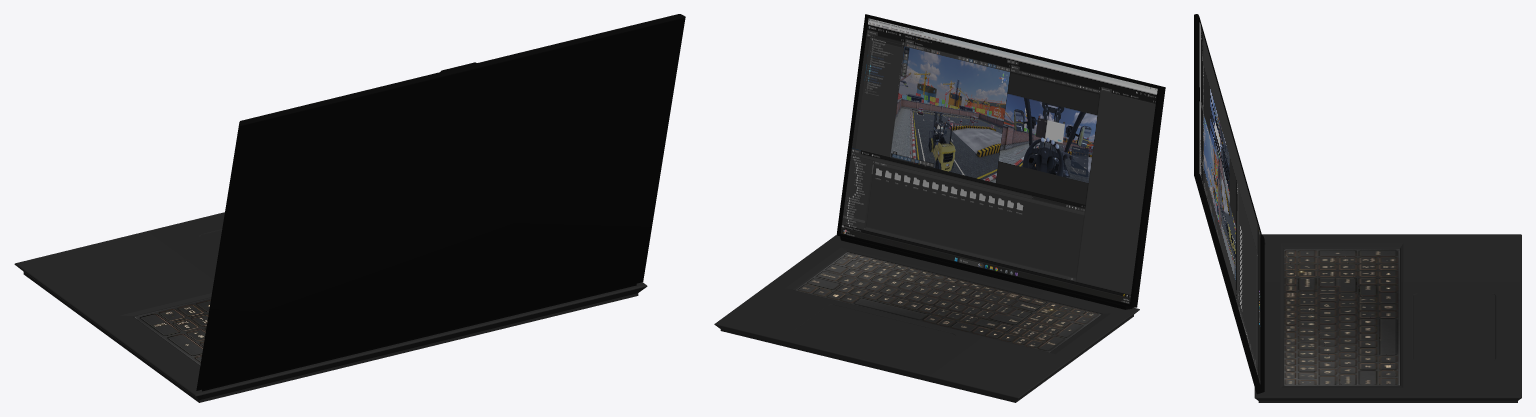
The model's file is laptop.glb.
3 views of the same model, side by side, from view 1: azimuth 30°, elevation 25°; view 2: azimuth 150°, elevation 25°; view 3: azimuth 270°, elevation 25° (orthographic). The views are drawn at different scales.
Parts seen in each view (by area): view 1: Cube.001_1, Cube_0; view 2: Cube.001_1, Cube_0; view 3: Cube_0, Cube.001_1.
Boxes of the visible parts, left/top/right/bottom form: Cube.001_1: left=196, top=14, right=685, bottom=391; Cube_0: left=14, top=212, right=647, bottom=402; Cube.001_1: left=836, top=14, right=1165, bottom=309; Cube_0: left=714, top=235, right=1139, bottom=402; Cube_0: left=1254, top=234, right=1521, bottom=402; Cube.001_1: left=1194, top=14, right=1264, bottom=394.
Bounding box in the file's own units: 1.38 × 0.9102 × 1.17.
Materials: 2 (2 with a texture image).
